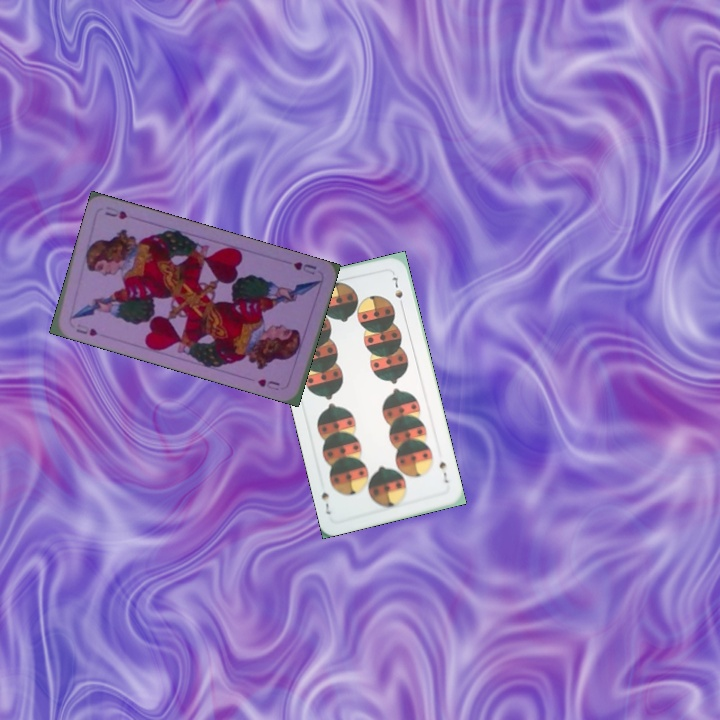HU: (289, 257, 319, 277), (72, 324, 100, 339)
S7: (435, 458, 451, 486)
